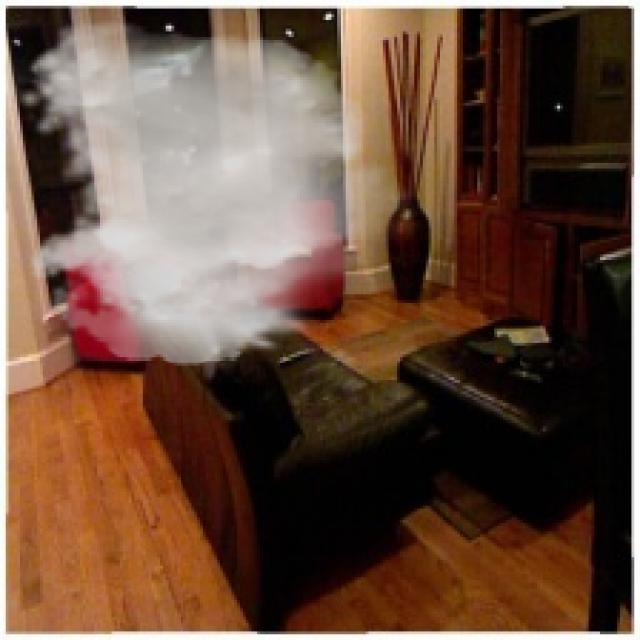Smoke: (17, 20, 420, 366)
